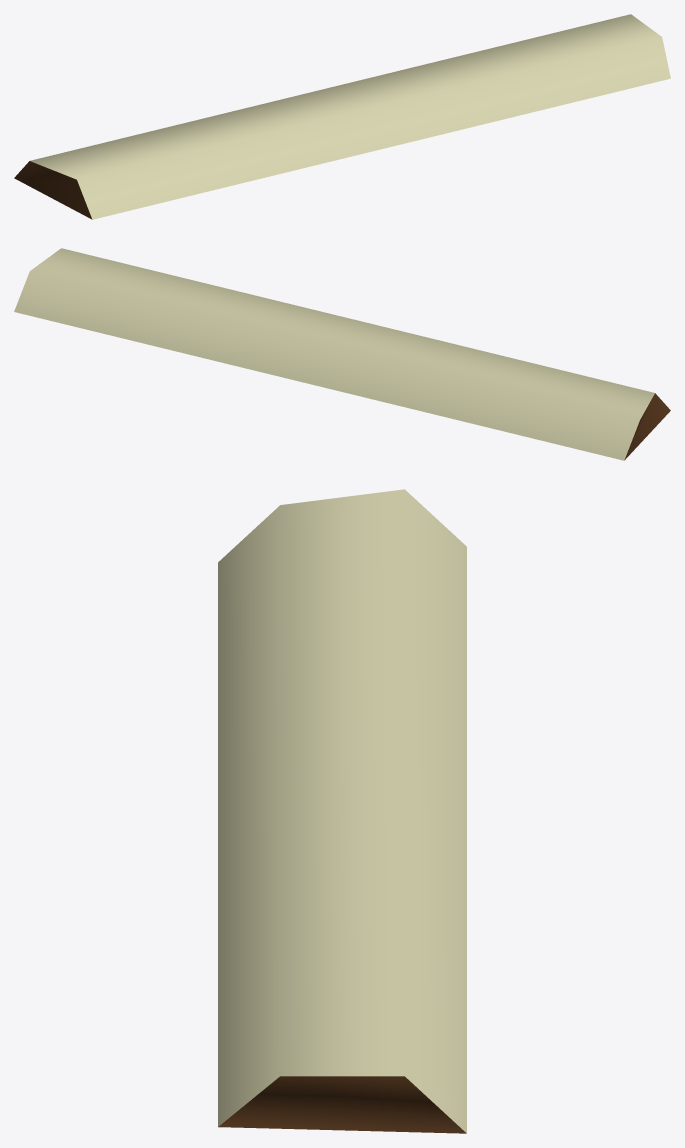
The model's file is splitPineLog.glb.
The picture shows the model from 3 angles, top to bottom: view 1: azimuth 30°, elevation 25°; view 2: azimuth 150°, elevation 25°; view 3: azimuth 270°, elevation 25°; orthographic projection. The views are drawn at different scales.
Visible parts, largest first — view 1: Cylinder; view 2: Cylinder; view 3: Cylinder.
Part boxes in pixels (box(x1,y1,x2,y2)): Cylinder: box(14, 14, 670, 219); Cylinder: box(14, 248, 670, 460); Cylinder: box(218, 489, 466, 1133).
Bounding box in the file's own units: 2.02 × 0.0922 × 0.3624.
